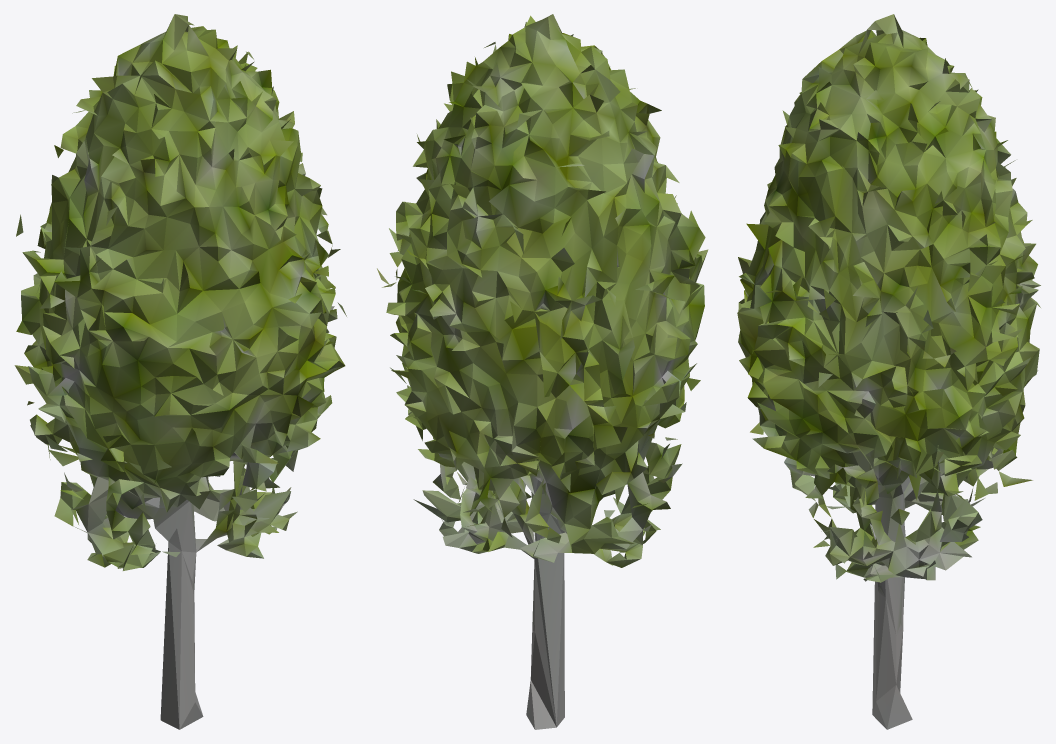
File: tree-cedar-elm.glb
3 renders of one model, left to right at view 1: azimuth 30°, elevation 25°; view 2: azimuth 150°, elevation 25°; view 3: azimuth 270°, elevation 25°, orthographic.
Parts seen in each view (by area): view 1: geometry_0; view 2: geometry_0; view 3: geometry_0.
Boxes of the visible parts, x1,y1,x2,y2 form: geometry_0: (14, 14, 346, 729); geometry_0: (377, 14, 708, 729); geometry_0: (737, 14, 1040, 729).
Size of the model in its own units: 0.8206 by 1.97 by 0.7716.
